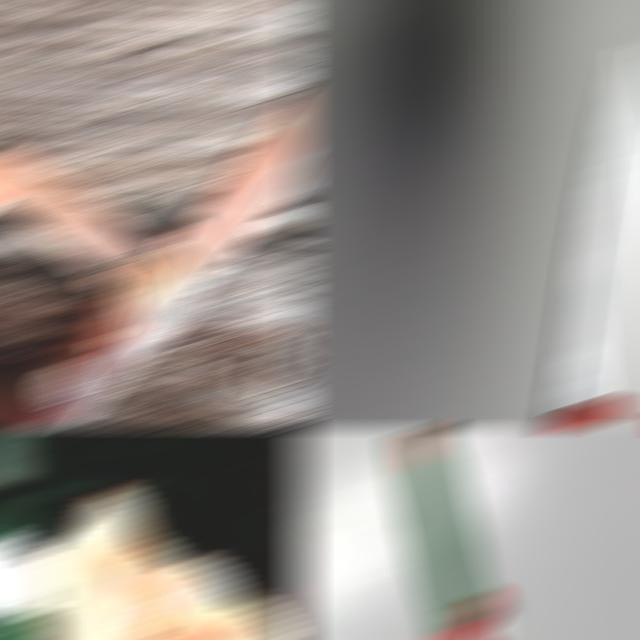Knife: (546, 42, 640, 426), (392, 430, 504, 638)
